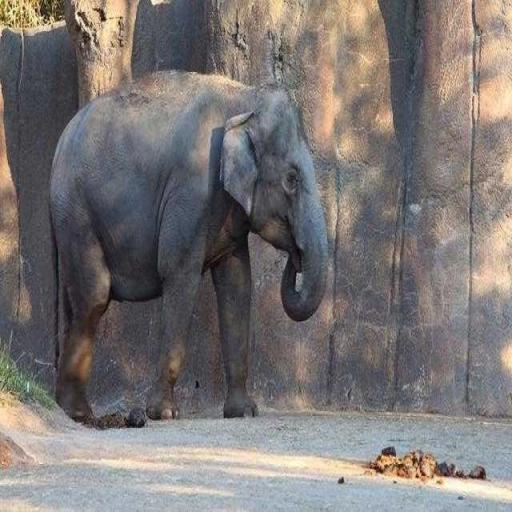Elephant: (47, 68, 330, 426)
